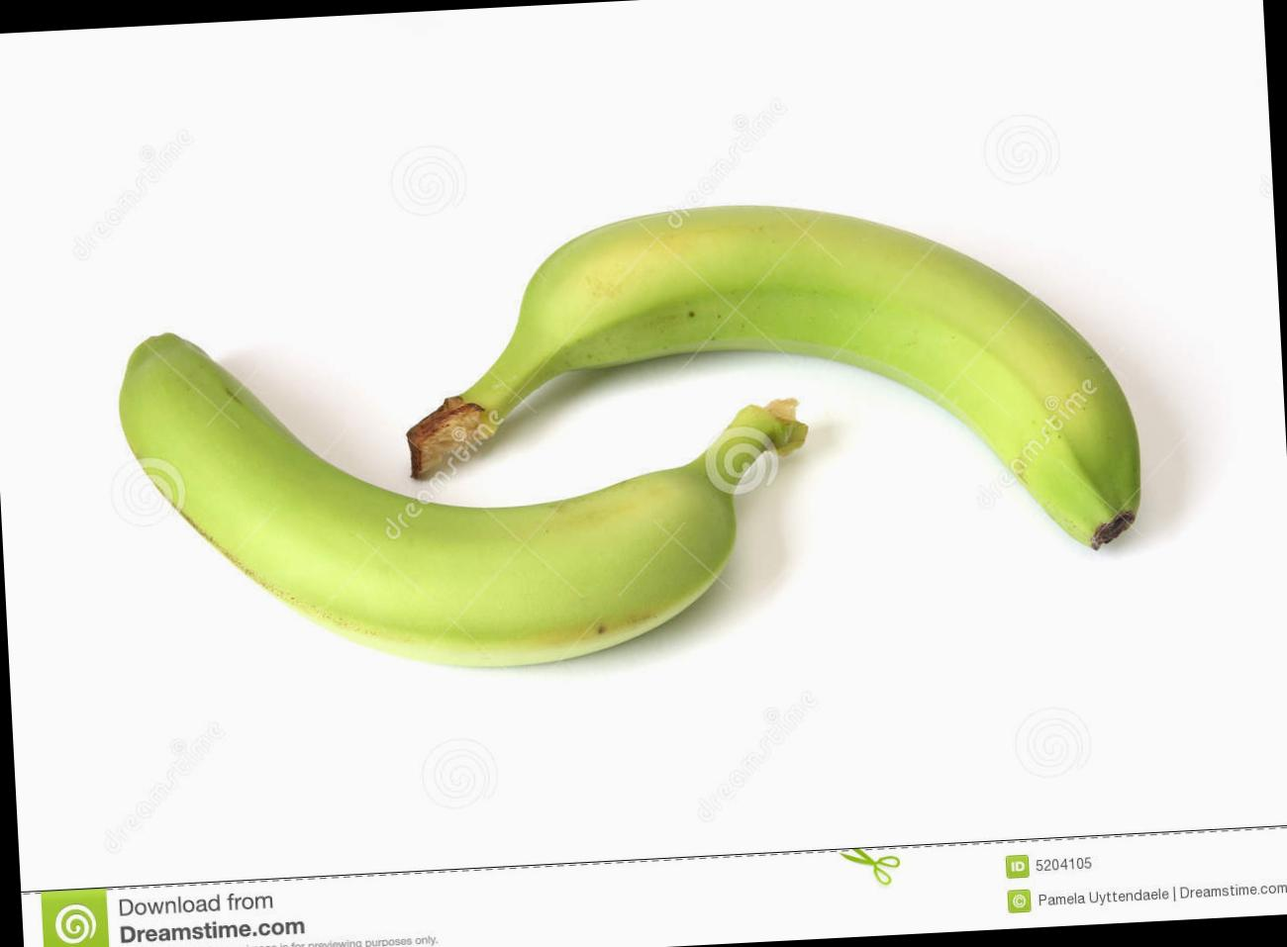Banana Unripe: (79, 140, 1207, 788)
